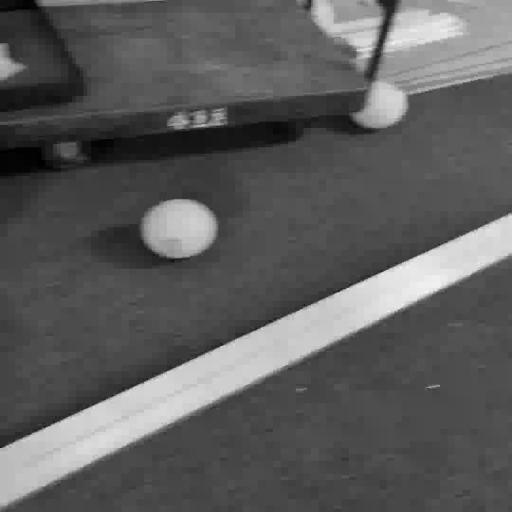fuel: (140, 199, 218, 260), (351, 81, 408, 129), (311, 0, 334, 32)
